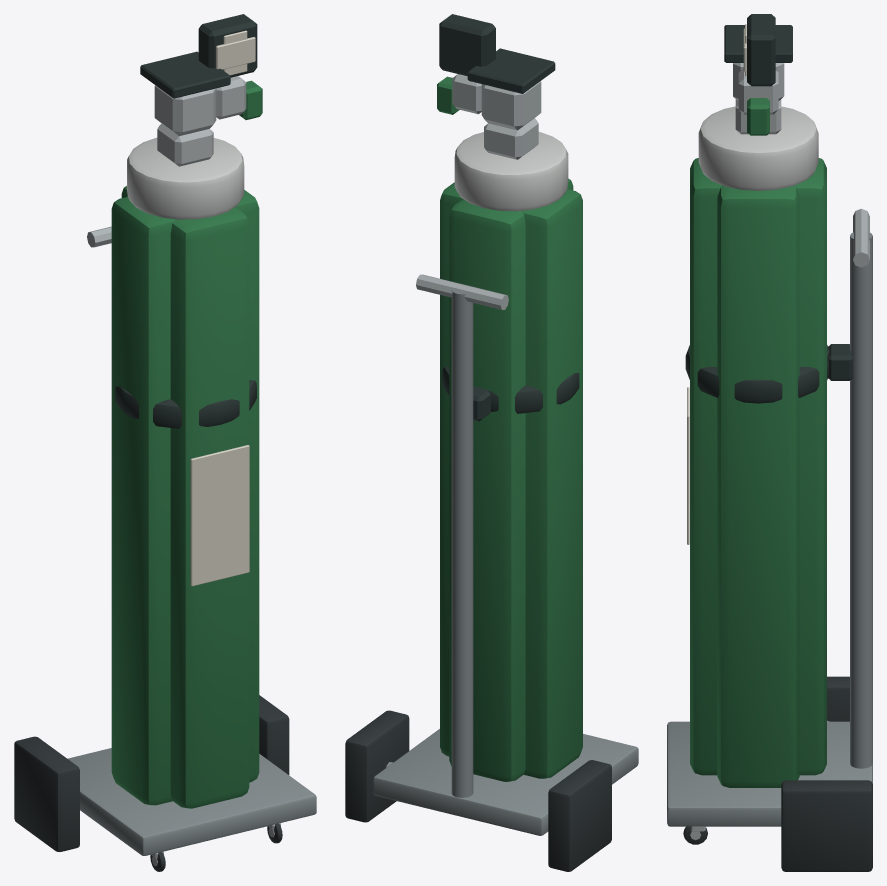
Rendered from oxygen-cylinder.glb.
3 renders of one model, left to right at view 1: azimuth 30°, elevation 25°; view 2: azimuth 150°, elevation 25°; view 3: azimuth 270°, elevation 25°, orthographic. The views are drawn at different scales.
Visible parts, largest first — view 1: oxygen-cylinder; view 2: oxygen-cylinder; view 3: oxygen-cylinder.
Boxes of the visible parts, box(x1,y1,x2,y2) form: oxygen-cylinder: box(14, 14, 316, 871); oxygen-cylinder: box(345, 14, 638, 871); oxygen-cylinder: box(667, 14, 872, 871).
Size of the model in its own units: 0.48 by 1.57 by 0.36.
